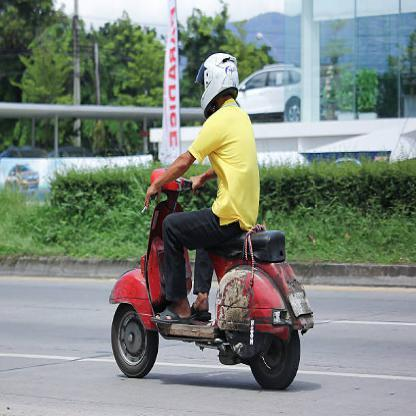Motorcycle: (109, 162, 304, 391)
